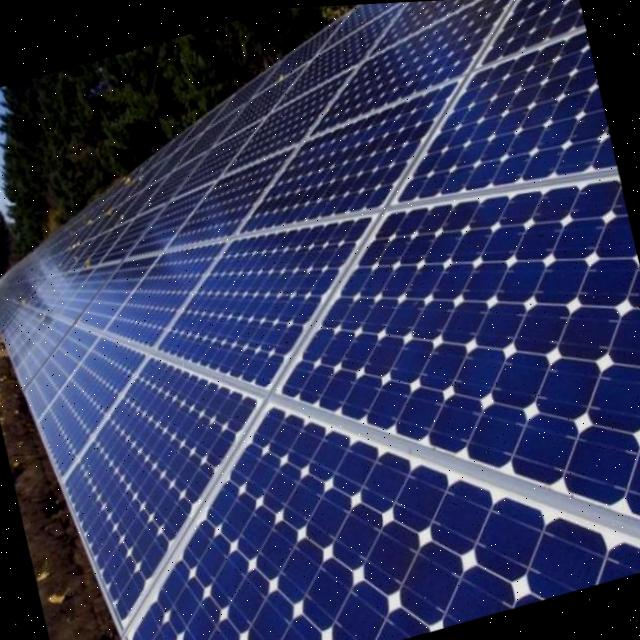Structural Damage: (16, 0, 640, 640)
Surface Contaminant: (78, 196, 126, 226), (116, 162, 146, 186), (70, 244, 96, 267), (60, 233, 90, 250), (15, 286, 32, 305), (35, 305, 50, 319)
